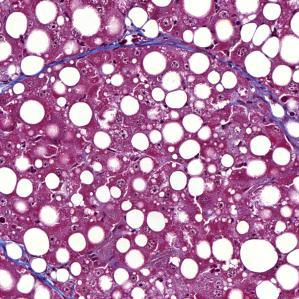fibrosis: (100, 0, 172, 32)
